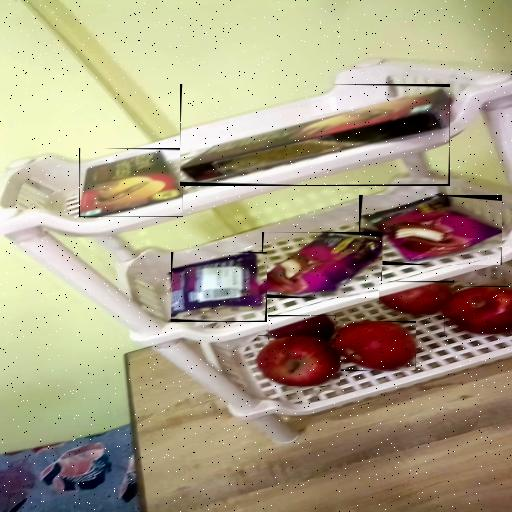Apple: (332, 321, 416, 371), (258, 335, 340, 386), (444, 286, 510, 334), (380, 281, 456, 315), (268, 315, 336, 340)
Choco Fills: (180, 84, 450, 186), (79, 148, 183, 217)
Choco Pie: (359, 195, 502, 265), (262, 232, 382, 298), (171, 252, 267, 322)
